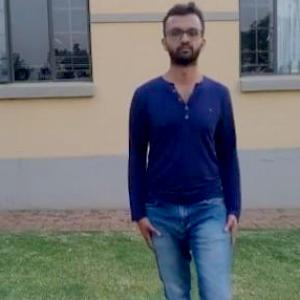follow: (127, 14, 239, 286)
